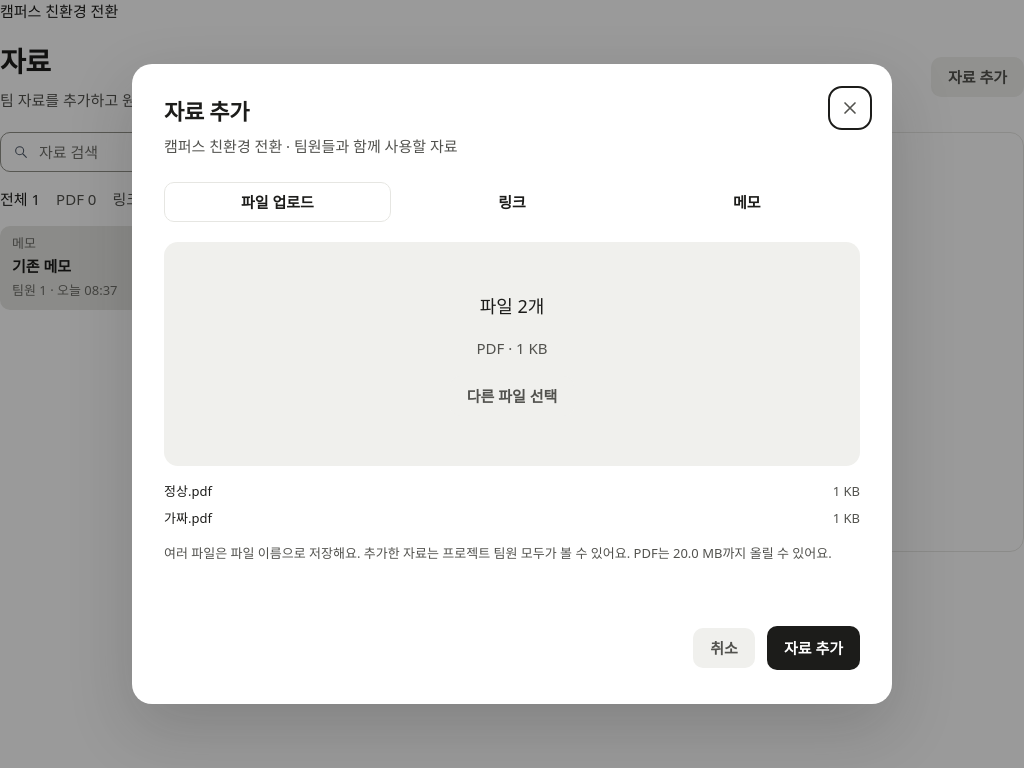
Test case: 서버가 PDF가 아니라고 거절한 파일은 다시 올리지 않는다
Earlier steps of the test are not shown.
What coordinates should you click on to do the following:
click the button "자료 추가"
I would click on:
 (813, 648)
Its box is [767,626,860,670].
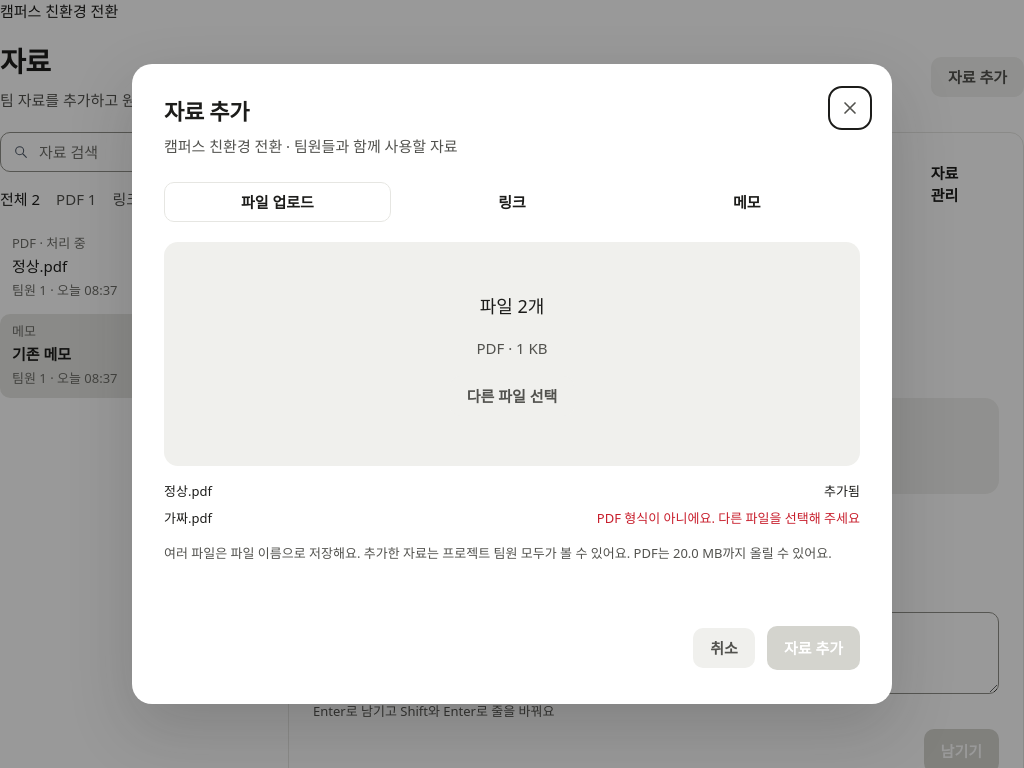
Expected: the text "PDF 형식이 아니에요. 다른 파일을 선택해 주세요" is shown, [597,509,860,528]
Expected: the text "추가됨" is shown, [824,482,860,501]
Expected: the button "자료 추가" is disabled, [767,626,860,670]
